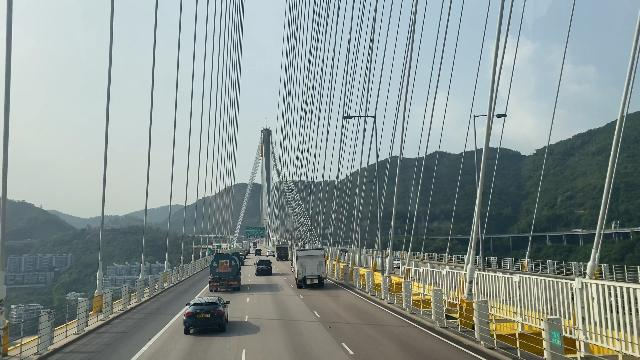car: (183, 295, 232, 338), (253, 258, 277, 280), (255, 248, 263, 256), (266, 250, 275, 257)
truck: (291, 247, 330, 289), (208, 251, 244, 293), (275, 243, 289, 263), (242, 241, 252, 252)
